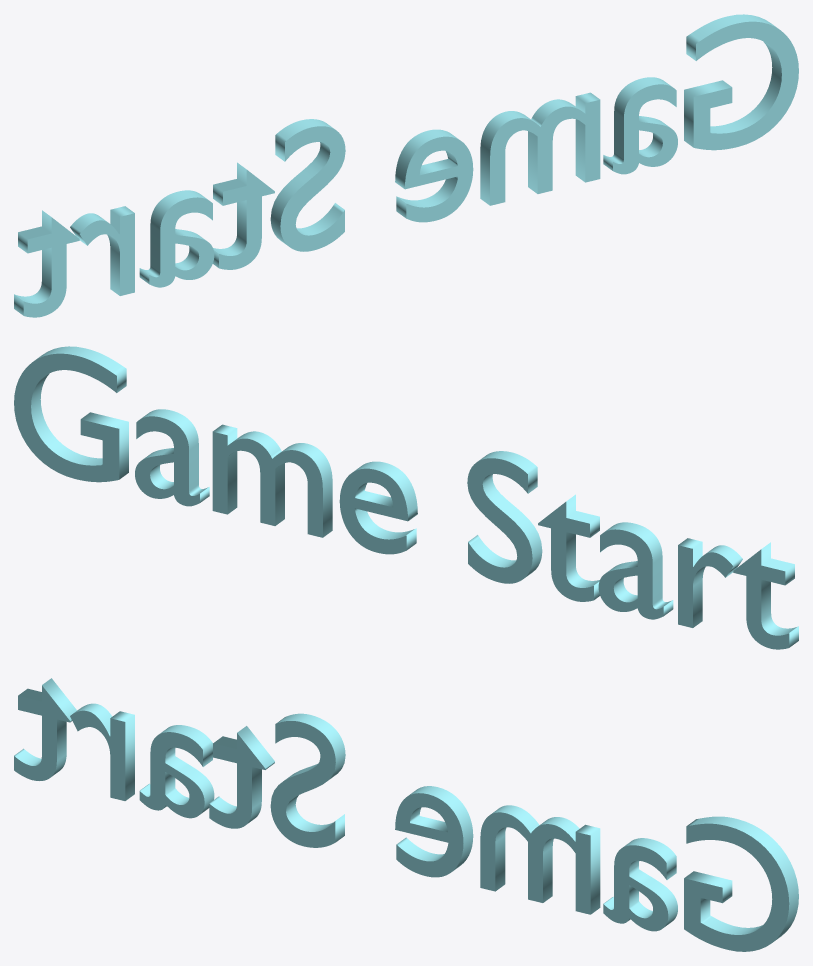
File: GameStart.glb
The picture shows the model from 3 angles, top to bottom: view 1: azimuth 30°, elevation 25°; view 2: azimuth 150°, elevation 25°; view 3: azimuth 330°, elevation 25°; orthographic projection.
Visible parts, largest first — view 1: テキスト; view 2: テキスト; view 3: テキスト.
Part boxes in pixels (<box>): テキスト: <box>14,14,798,317</box>; テキスト: <box>14,346,798,649</box>; テキスト: <box>14,678,798,951</box>.
Bounding box in the file's own units: 4.59 × 0.7 × 0.1.
